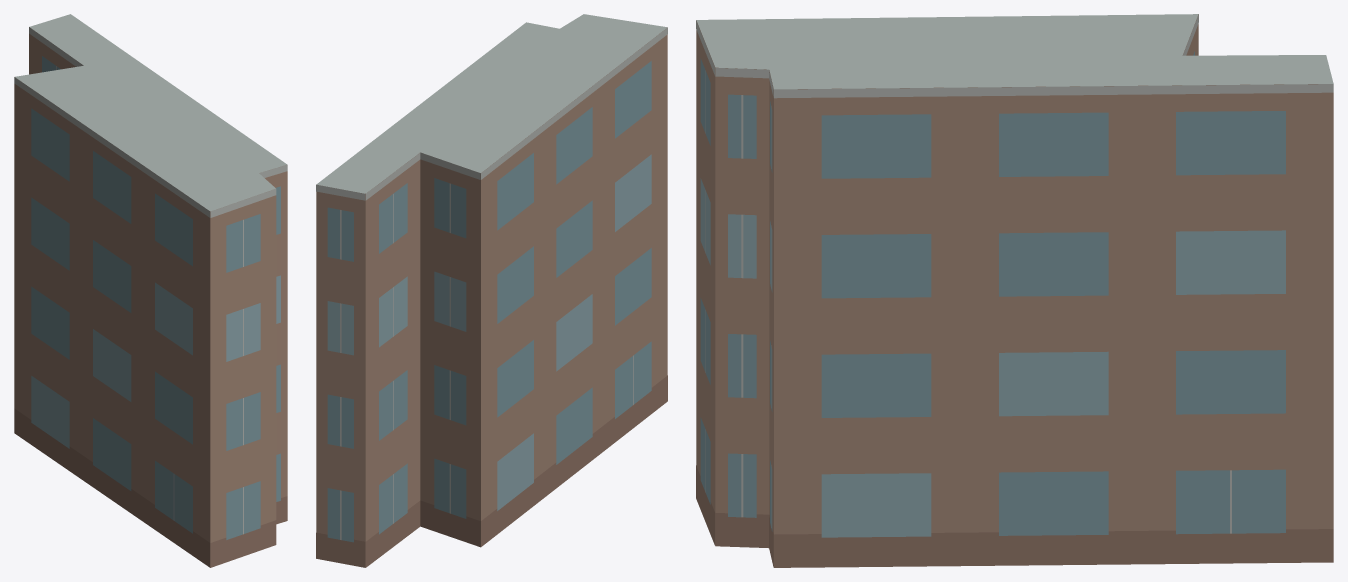
Rendered from survey-upis-32959349.glb.
3 renders of one model, left to right at view 1: azimuth 30°, elevation 25°; view 2: azimuth 150°, elevation 25°; view 3: azimuth 270°, elevation 25°, orthographic. The views are drawn at different scales.
Parts seen in each view (by area): view 1: survey-upis-32959349.tmp; view 2: survey-upis-32959349.tmp; view 3: survey-upis-32959349.tmp.
Part boxes in pixels (x1,y1,x2,y2): survey-upis-32959349.tmp: (14,14,287,567); survey-upis-32959349.tmp: (316,14,667,567); survey-upis-32959349.tmp: (696,14,1333,567).
Size of the model in its own units: 4.47 by 13.2 by 15.95.
